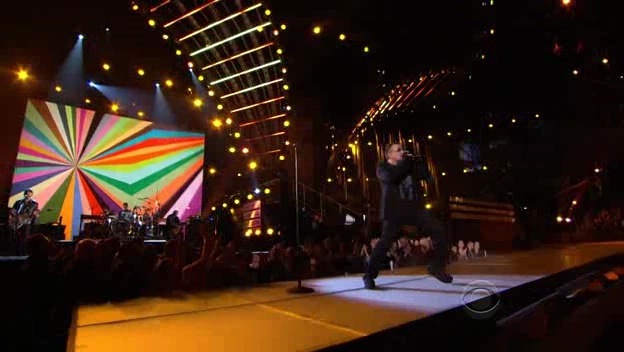person: (374, 139, 432, 242), (371, 139, 429, 242), (377, 139, 435, 242), (374, 136, 432, 239), (374, 142, 432, 245)
target_negative: (126, 137, 396, 298), (61, 280, 422, 351), (511, 61, 535, 222), (363, 59, 383, 110), (468, 178, 580, 187), (104, 249, 136, 257)
